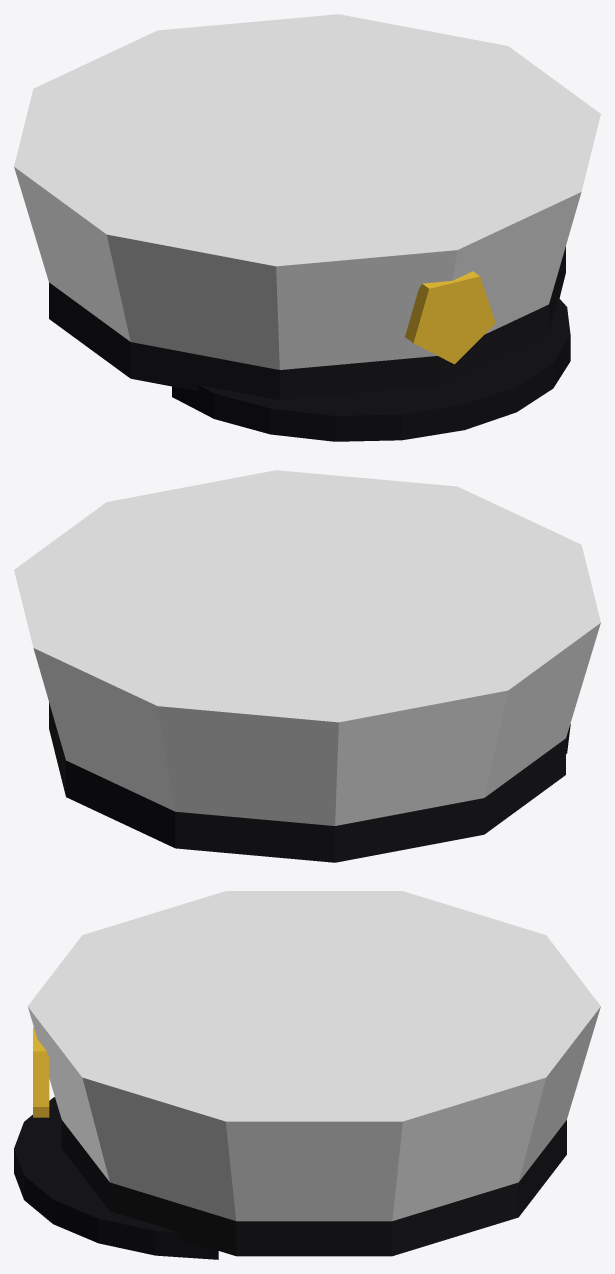
The model's file is party_trait_cap_white.glb.
3 views of the same model, one above another, from view 1: azimuth 30°, elevation 25°; view 2: azimuth 150°, elevation 25°; view 3: azimuth 270°, elevation 25° (orthographic). The views are drawn at different scales.
Visible parts, largest first — view 1: cap_trait_cap_white, cap_trait_visor, cap_trait_cap_band, cap_trait_cap_star; view 2: cap_trait_cap_white, cap_trait_cap_band; view 3: cap_trait_cap_white, cap_trait_cap_band, cap_trait_visor, cap_trait_cap_star.
Boxes of the visible parts, x1,y1,x2,y2 form: cap_trait_cap_white: (14,14,600,369); cap_trait_visor: (172,297,570,441); cap_trait_cap_band: (49,246,565,400); cap_trait_cap_star: (405,271,495,364); cap_trait_cap_white: (14,470,600,825); cap_trait_cap_band: (49,702,565,862); cap_trait_cap_white: (27,891,600,1221); cap_trait_cap_band: (61,1120,566,1256); cap_trait_visor: (14,1097,218,1259); cap_trait_cap_star: (33,1027,49,1117).
Bounding box in the file's own units: 0.3994 × 0.135 × 0.43.
